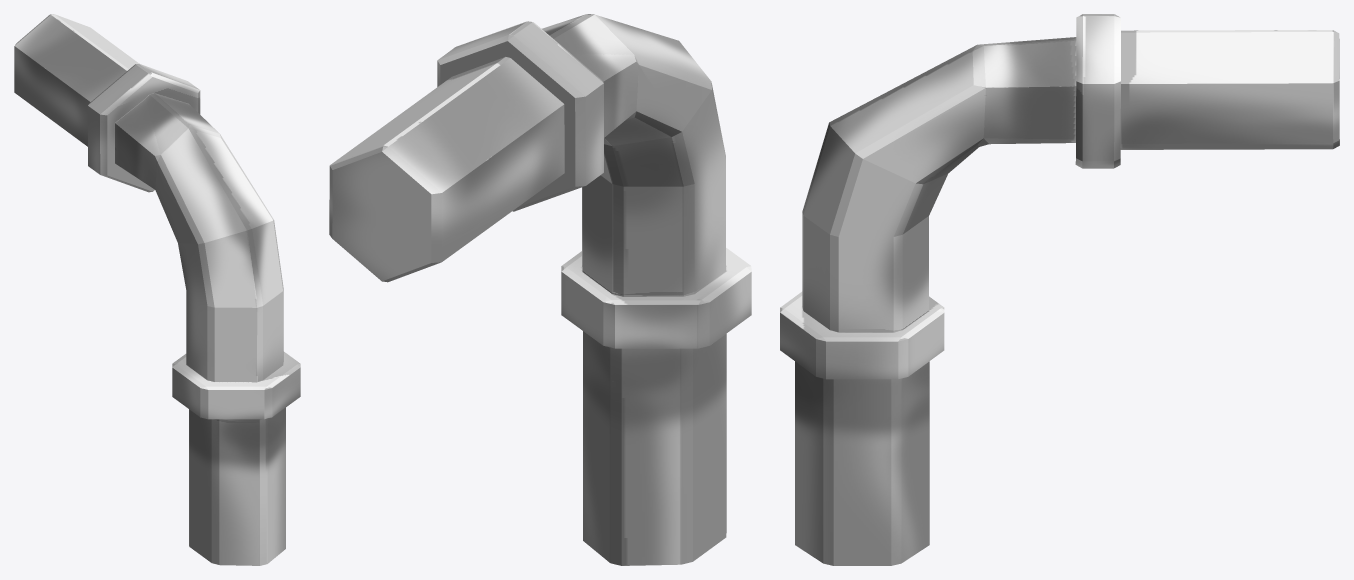
Rendered from canoquinatextura.fbx.
The picture shows the model from 3 angles, left to right: view 1: azimuth 30°, elevation 25°; view 2: azimuth 150°, elevation 25°; view 3: azimuth 270°, elevation 25°; orthographic projection. The views are drawn at different scales.
Visible parts, largest first — view 1: Cilindro.002; view 2: Cilindro.002; view 3: Cilindro.002.
Part boxes in pixels (<box>): Cilindro.002: <box>14,14,300,565</box>; Cilindro.002: <box>329,14,751,565</box>; Cilindro.002: <box>780,14,1339,565</box>.
Size of the model in its own units: 73.51 by 287 by 276.
